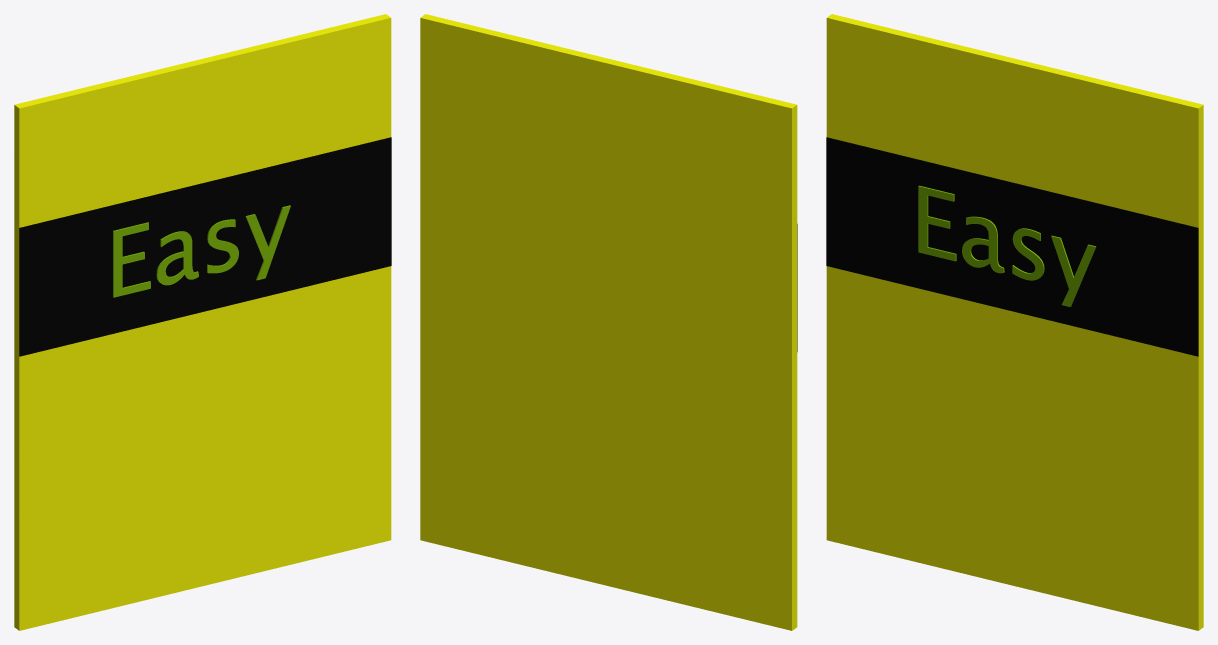
The model's file is AST_transitionHallway_sh_door_easy.fbx.
3 views of the same model, side by side, from view 1: azimuth 30°, elevation 25°; view 2: azimuth 150°, elevation 25°; view 3: azimuth 330°, elevation 25° (orthographic).
Visible parts, largest first — view 1: MSH_transitionHallway_sh_door_easy; view 2: MSH_transitionHallway_sh_door_easy; view 3: MSH_transitionHallway_sh_door_easy.
Boxes of the visible parts, x1,y1,x2,y2 form: MSH_transitionHallway_sh_door_easy: (14, 14, 391, 630); MSH_transitionHallway_sh_door_easy: (420, 14, 797, 630); MSH_transitionHallway_sh_door_easy: (826, 14, 1203, 630).
Bounding box in the file's own units: 202 × 272 × 6.11.
